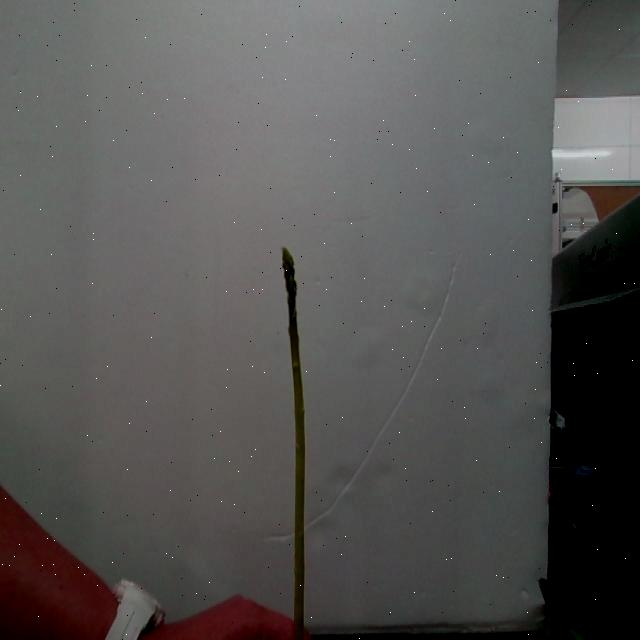aspargus: (280, 249, 306, 640)
